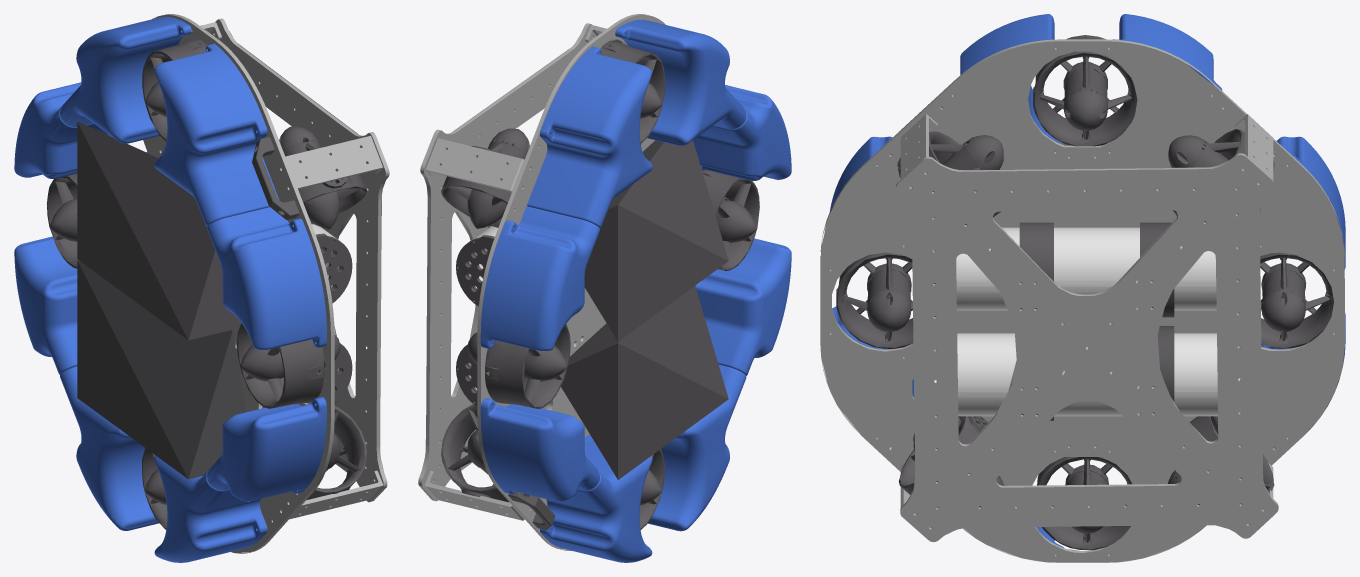
File: cirtesubdae.glb
3 renders of one model, left to right at view 1: azimuth 30°, elevation 25°; view 2: azimuth 150°, elevation 25°; view 3: azimuth 270°, elevation 25°, orthographic. The views are drawn at different scales.
Parts seen in each view (by area): view 1: Cube.001, Cube, Part_1-Mirrored-Mirrored, Part_1.010, Part_2-Mirrored-Mirrored, Part_2-Mirrored, Part_1-Mirrored, Part_1.004, Part_1-Mirrored.001, Part_1, Part_2, duct_left_up_rear (+11 smaller); view 2: Cube.001, Cube, Part_1-Mirrored, Part_1.010, Part_2-Mirrored.001, Part_2, Part_1-Mirrored-Mirrored, Part_2-Mirrored, Part_1, Part_1-Mirrored.001, Part_1.004, Part_2-Mirrored-Mirrored (+11 smaller); view 3: Part_1.010, Part_1.004, BR-101052-400_RevB, BR-101052-400_RevB-Mirrored, duct_left_up_rear.003, duct_left_up_rear, duct_left_up_rear.002, duct_left_up_rear.007, Part_1-Mirrored, Part_1-Mirrored-Mirrored, duct_left_up_rear.001, duct_left_up_rear.005 (+9 smaller).
Part boxes in pixels (box(x1,y1,x2,y2)): Cube.001: box(77, 260, 245, 479); Cube: box(77, 121, 241, 340); Part_1-Mirrored-Mirrored: box(154, 43, 279, 226); Part_1.010: box(215, 18, 389, 502); Part_2-Mirrored-Mirrored: box(207, 207, 326, 349); Part_2-Mirrored: box(207, 397, 326, 501); Part_1-Mirrored: box(60, 17, 191, 143); Part_1.004: box(143, 14, 334, 553); Part_1-Mirrored.001: box(154, 455, 267, 562); Part_1: box(60, 366, 158, 530); Part_2: box(14, 236, 77, 374); duct_left_up_rear: box(237, 323, 340, 408); Cube.001: box(561, 286, 728, 479); Cube: box(584, 140, 728, 341); Part_1-Mirrored: box(527, 46, 652, 228); Part_1.010: box(418, 23, 591, 501); Part_2-Mirrored.001: box(480, 206, 599, 350); Part_2: box(480, 398, 599, 501); Part_1-Mirrored-Mirrored: box(615, 20, 746, 145); Part_2-Mirrored: box(695, 238, 791, 375); Part_1: box(540, 434, 652, 562); Part_1-Mirrored.001: box(648, 364, 746, 531); Part_1.004: box(477, 14, 665, 550); Part_2-Mirrored-Mirrored: box(693, 85, 791, 180); Part_1.010: box(896, 153, 1278, 542); Part_1.004: box(820, 39, 1344, 562); BR-101052-400_RevB: box(956, 227, 1216, 310); BR-101052-400_RevB-Mirrored: box(957, 333, 1217, 416); duct_left_up_rear.003: box(1033, 35, 1137, 146); duct_left_up_rear: box(836, 252, 935, 348); duct_left_up_rear.002: box(1237, 252, 1333, 348); duct_left_up_rear.007: box(1037, 445, 1131, 549); Part_1-Mirrored: box(1109, 14, 1224, 151); Part_1-Mirrored-Mirrored: box(960, 14, 1063, 151); duct_left_up_rear.001: box(897, 131, 1003, 224); duct_left_up_rear.005: box(1168, 129, 1274, 222).
Size of the model in its own units: 0.27 by 0.79 by 0.7208.
